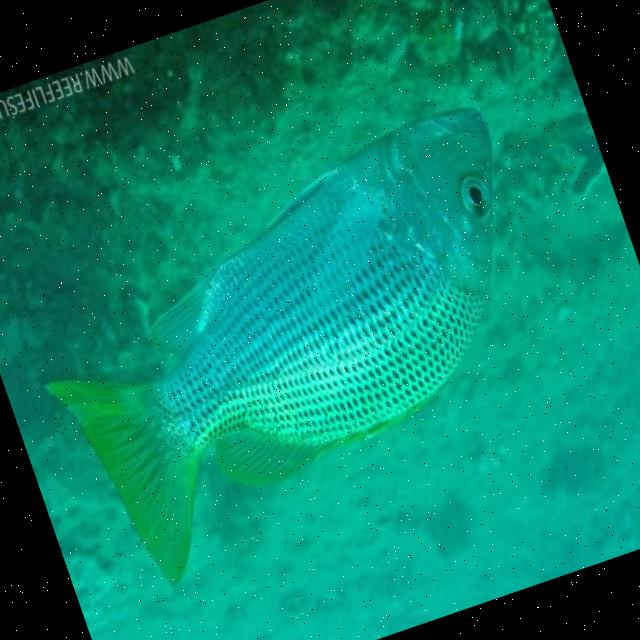ikan: (1, 96, 598, 607)
